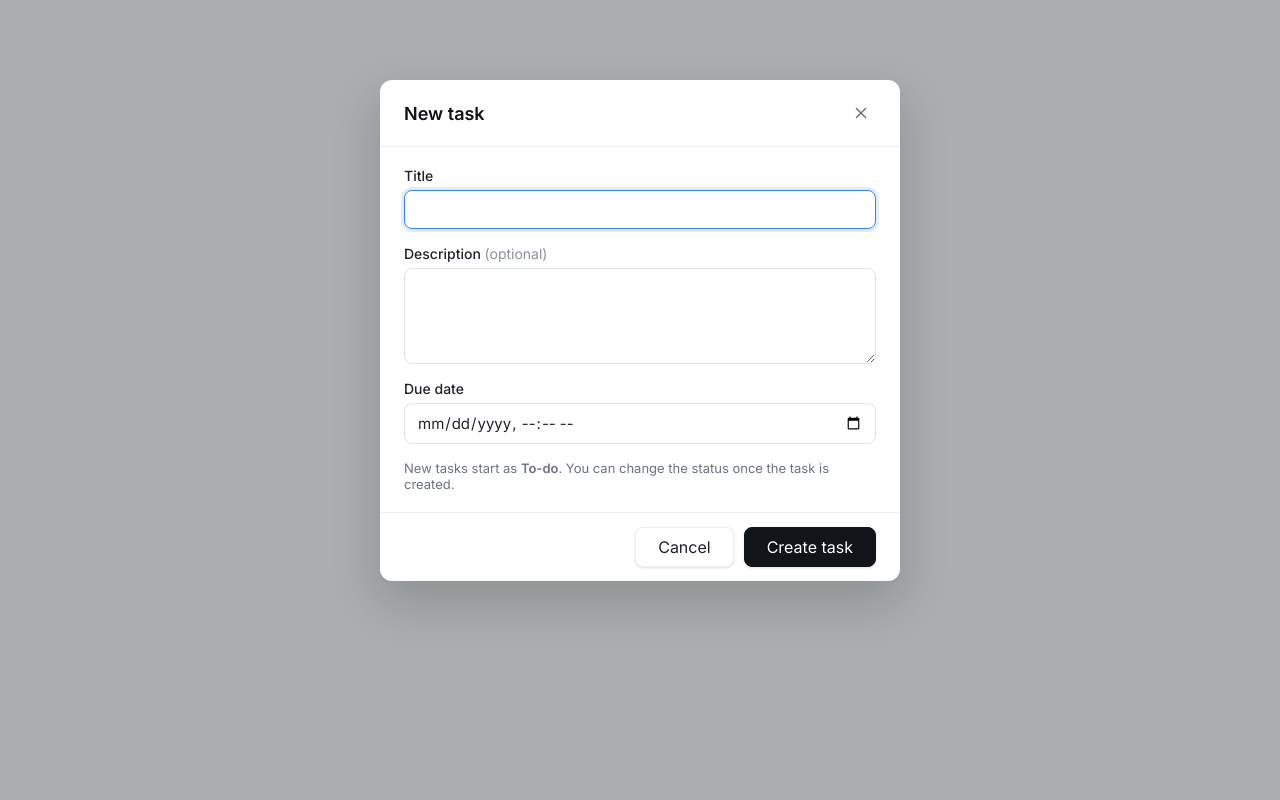
Test: TaskFormModal › shows field errors returned by the server
Type "Review bundle" into the field labelled "Title". click: [640, 210]
box: [404, 190, 876, 229]
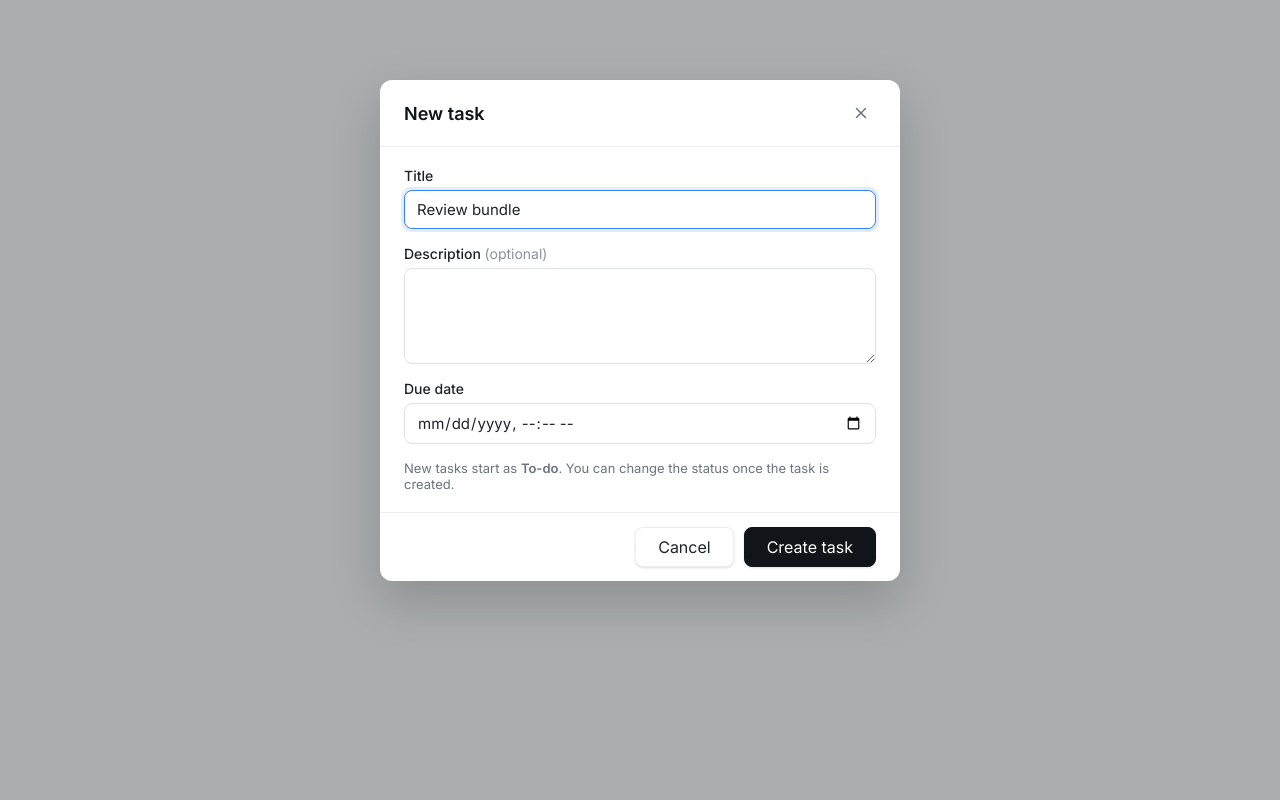
Type "2099-01-15T10:30" into the field labelled "Due date". click: [640, 424]
box: [404, 403, 876, 444]
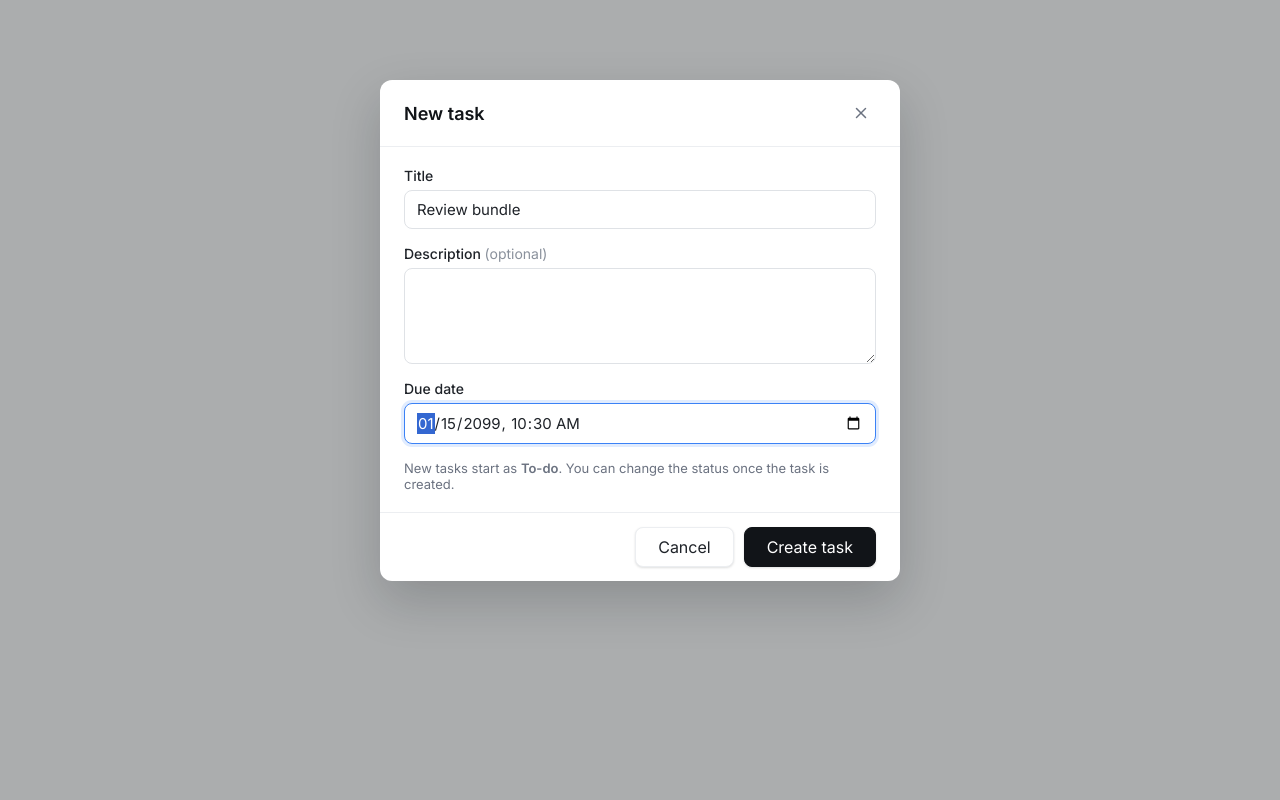
Click the button "Create task". click: [810, 547]
box: [744, 527, 876, 567]
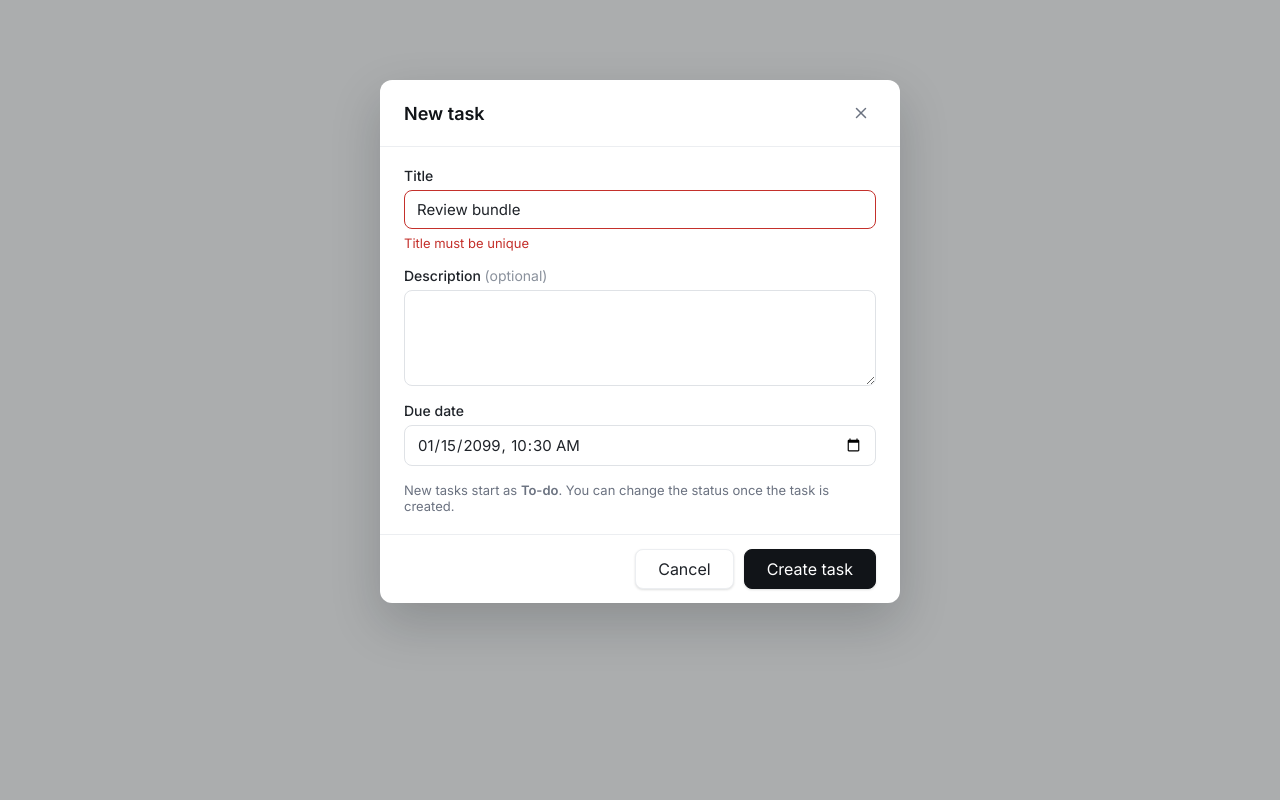
Expected: the text "Title must be unique" is shown, [404, 235, 529, 251]
